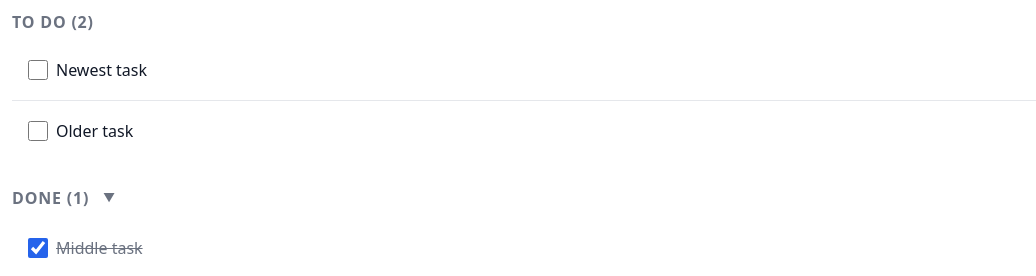
Test case: TodoList › two-section layout › Done section can be collapsed
Expected: the text "Middle task" is shown, 56,237 -> 143,259
Click the button named "collapse completed" at [109, 198], box 97,185 -> 121,210
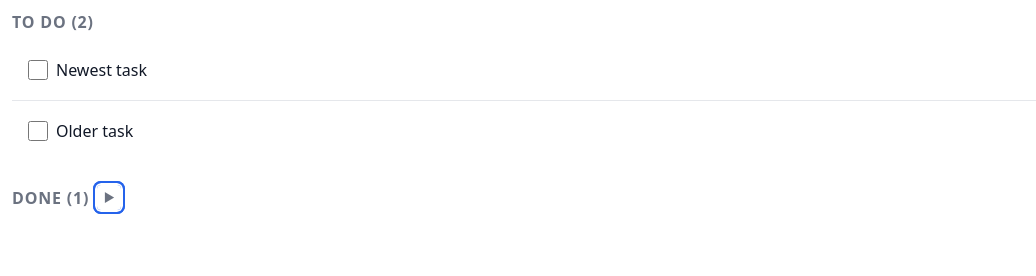
Expected: the button named "collapse completed" is collapsed, 97,185 -> 121,210
Expected: the text "Middle task" is gone
